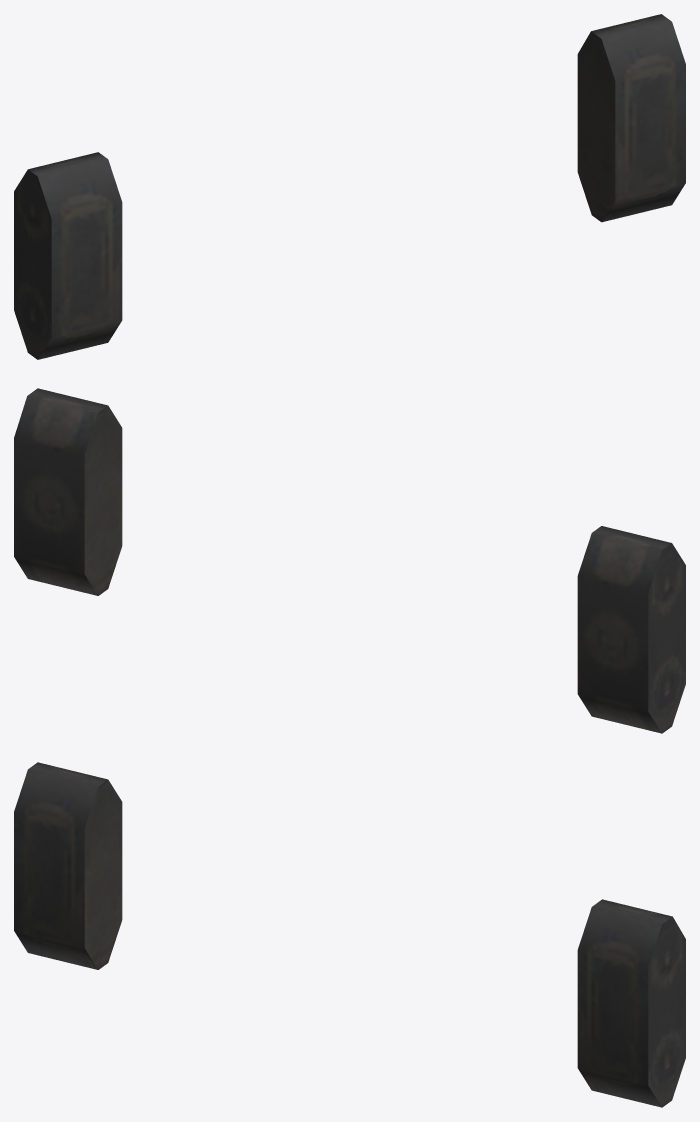
3 renders of one model, top to bottom at view 1: azimuth 30°, elevation 25°; view 2: azimuth 150°, elevation 25°; view 3: azimuth 330°, elevation 25°, orthographic.
Parts seen in each view (by area): view 1: set_0_group_0; view 2: set_0_group_0; view 3: set_0_group_0.
Boxes of the visible parts, x1,y1,x2,y2 form: set_0_group_0: (14,14,685,359); set_0_group_0: (14,388,685,733); set_0_group_0: (14,762,685,1107).
Size of the model in its own units: 0.4024 by 0.1112 by 0.0414.
Materials: 1 (1 with a texture image).
